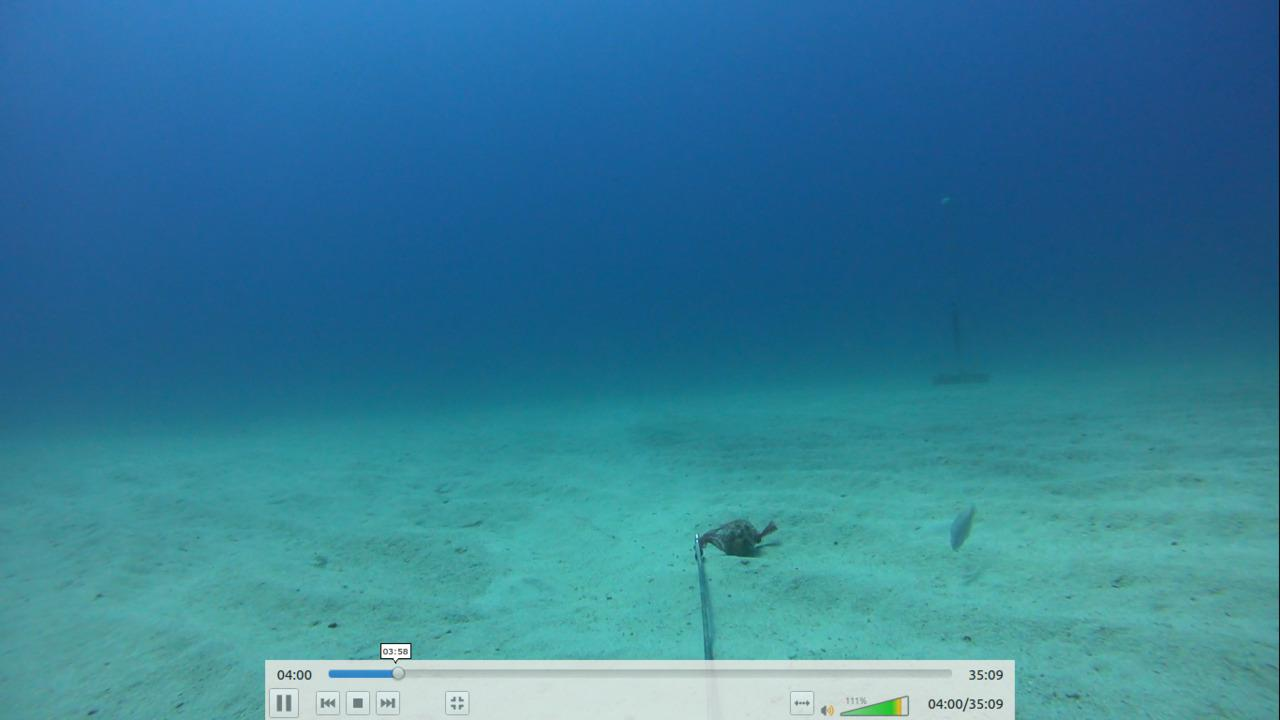raor: (942, 498, 984, 553)
